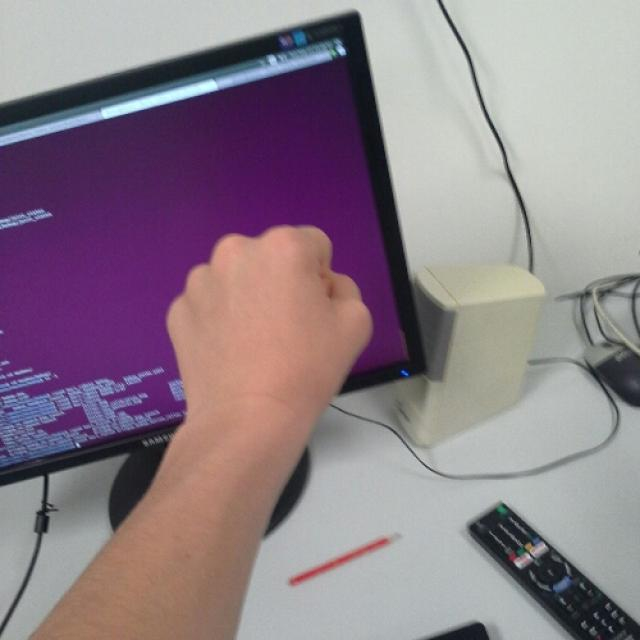fist: (164, 222, 374, 421)
